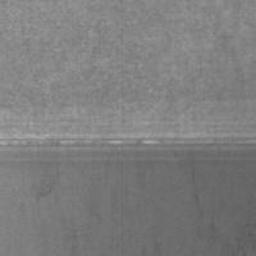Welding line: (0, 138, 256, 146)
